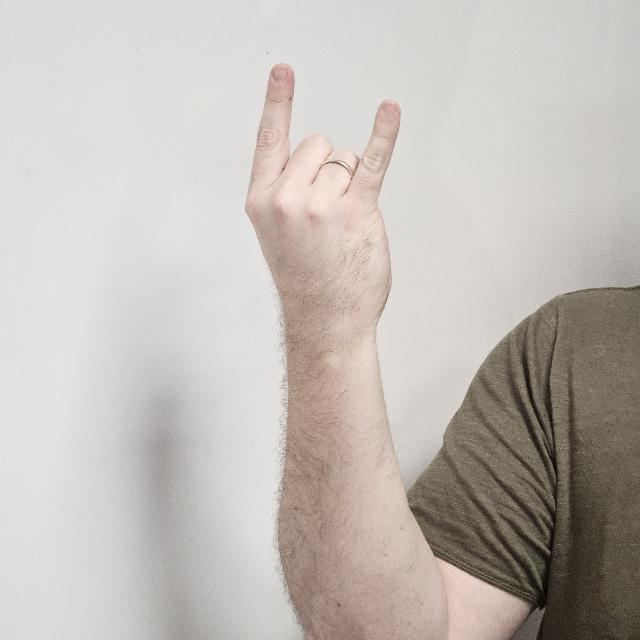L: (245, 61, 402, 361)
